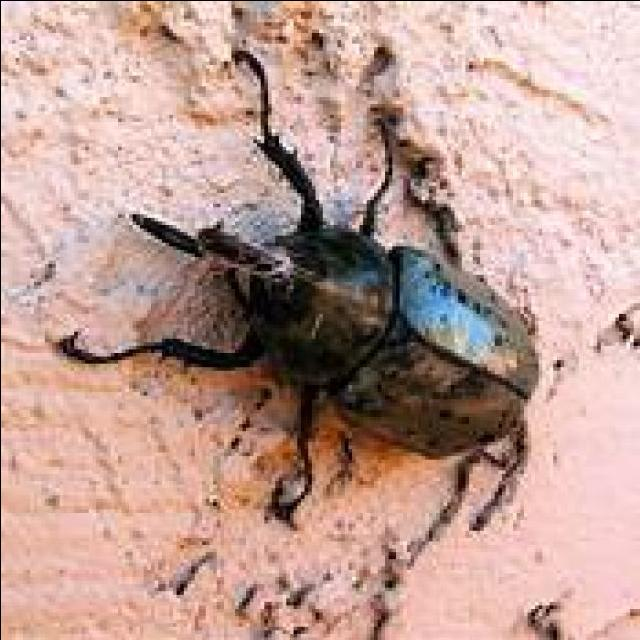Rhino-beetle: (90, 115, 566, 481)
